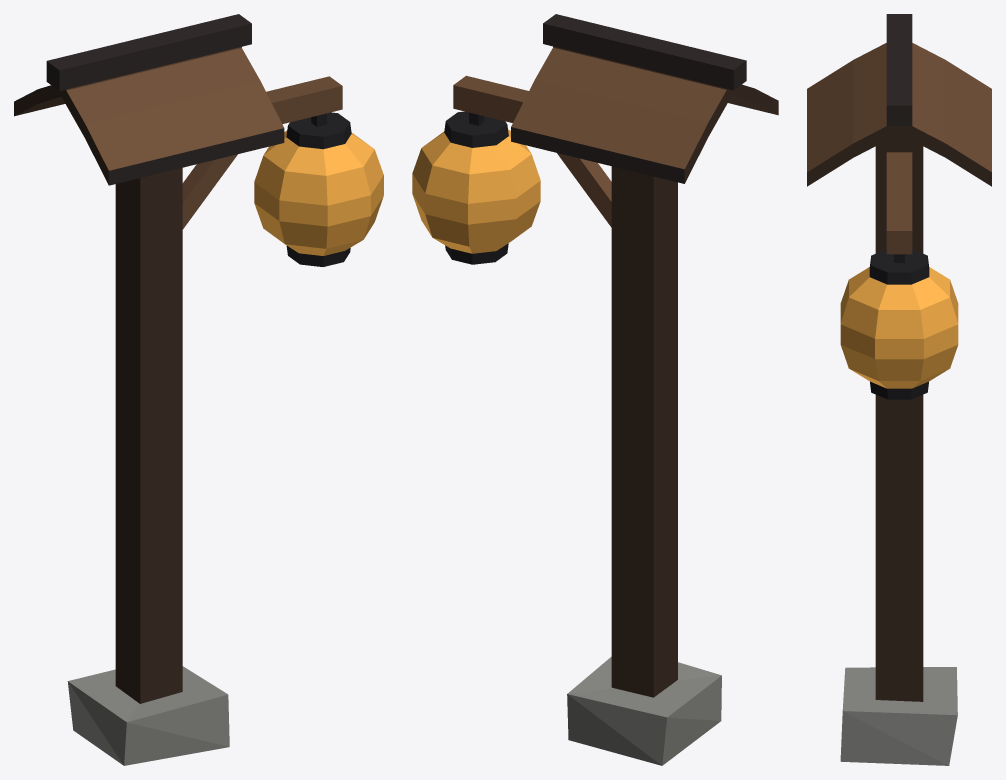
The model's file is lantern_post.fbx.
3 views of the same model, side by side, from view 1: azimuth 30°, elevation 25°; view 2: azimuth 150°, elevation 25°; view 3: azimuth 270°, elevation 25° (orthographic). The views are drawn at different scales.
Visible parts, largest first — view 1: lantern_post; view 2: lantern_post; view 3: lantern_post.
Part boxes in pixels (<box>): lantern_post: <box>14,14,383,765</box>; lantern_post: <box>412,14,778,765</box>; lantern_post: <box>807,14,991,765</box>.
Bounding box in the file's own units: 1.12 × 2.36 × 0.58.
